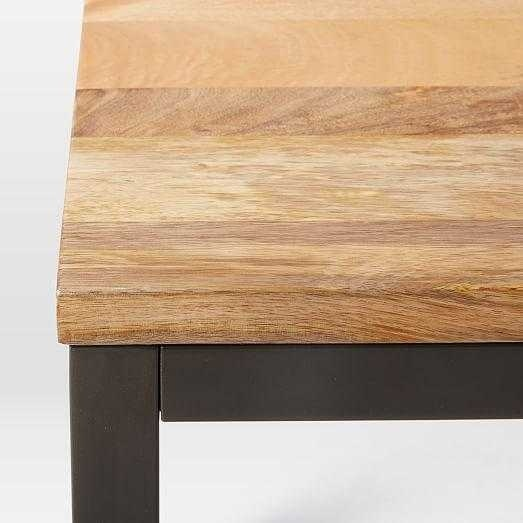obstacle: (58, 0, 522, 522)
